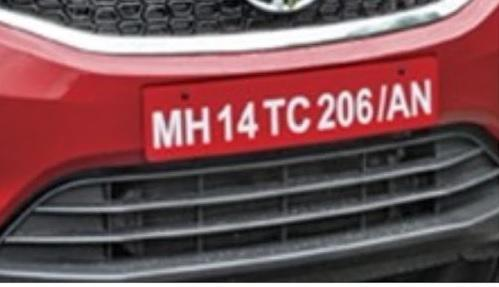licence-plate: (132, 73, 463, 166)
